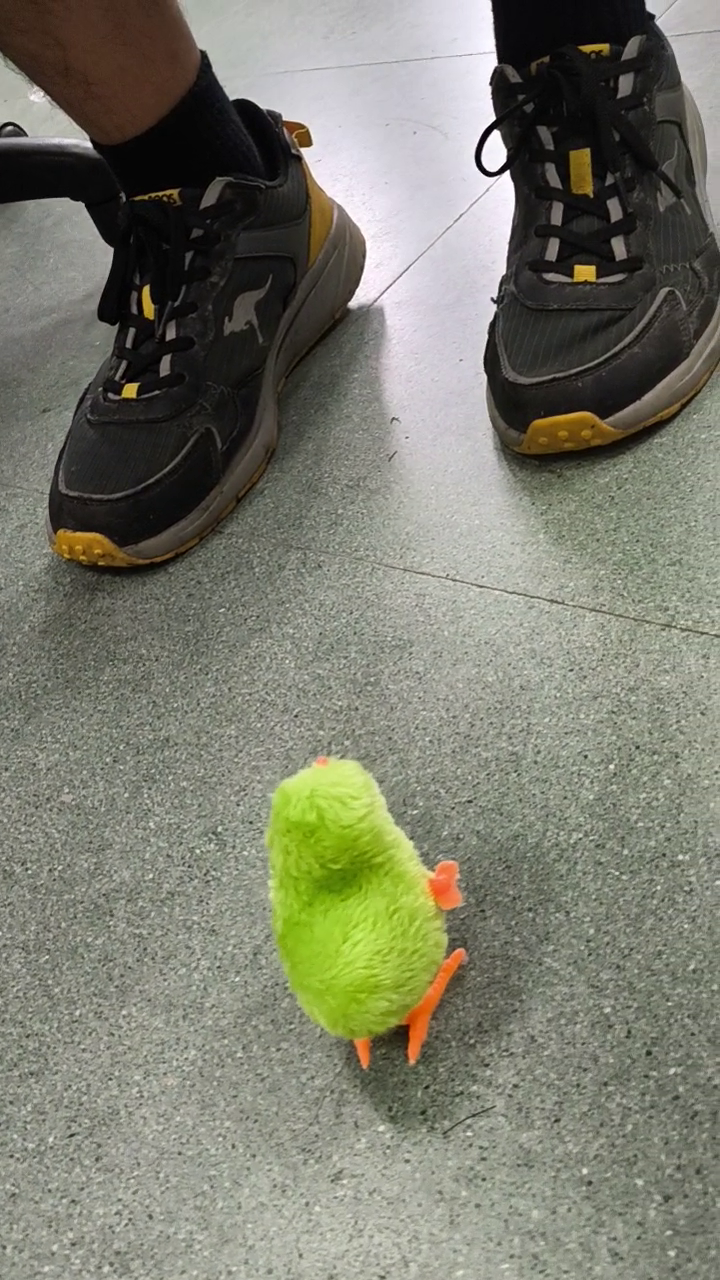green chicken: (261, 749, 476, 1074)
